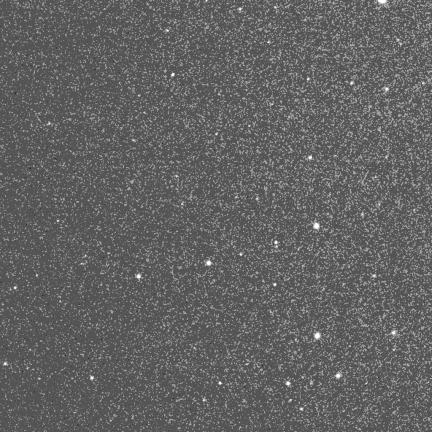blob: (315, 332, 321, 340), (336, 373, 342, 379), (378, 0, 386, 4), (206, 260, 211, 266), (314, 223, 319, 229), (240, 252, 244, 257), (3, 362, 8, 366), (392, 330, 396, 335), (286, 381, 290, 386), (137, 274, 141, 279), (238, 8, 243, 12), (256, 197, 260, 201), (14, 286, 18, 290), (171, 73, 175, 77), (308, 155, 312, 159), (90, 376, 94, 380), (385, 87, 388, 91), (274, 241, 278, 244), (373, 274, 376, 278), (215, 133, 219, 136), (307, 78, 311, 81), (57, 220, 60, 223), (273, 283, 276, 286), (300, 408, 303, 411), (219, 381, 221, 385), (351, 81, 353, 85)
